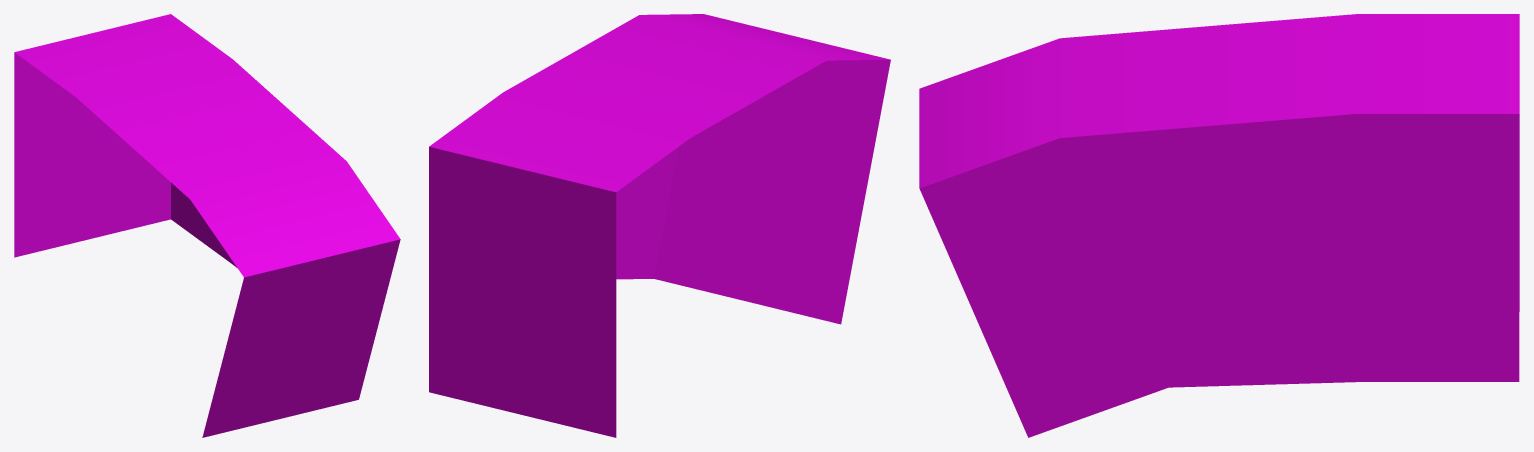
Rendered from tile 3.fbx.
3 renders of one model, left to right at view 1: azimuth 30°, elevation 25°; view 2: azimuth 150°, elevation 25°; view 3: azimuth 270°, elevation 25°, orthographic. The views are drawn at different scales.
Parts seen in each view (by area): view 1: pCube4; view 2: pCube4; view 3: pCube4.
Boxes of the visible parts, x1,y1,x2,y2 form: pCube4: (14,14,400,437); pCube4: (429,14,890,437); pCube4: (919,14,1519,437).
Bounding box in the file's own units: 5.28 × 8 × 13.42.
